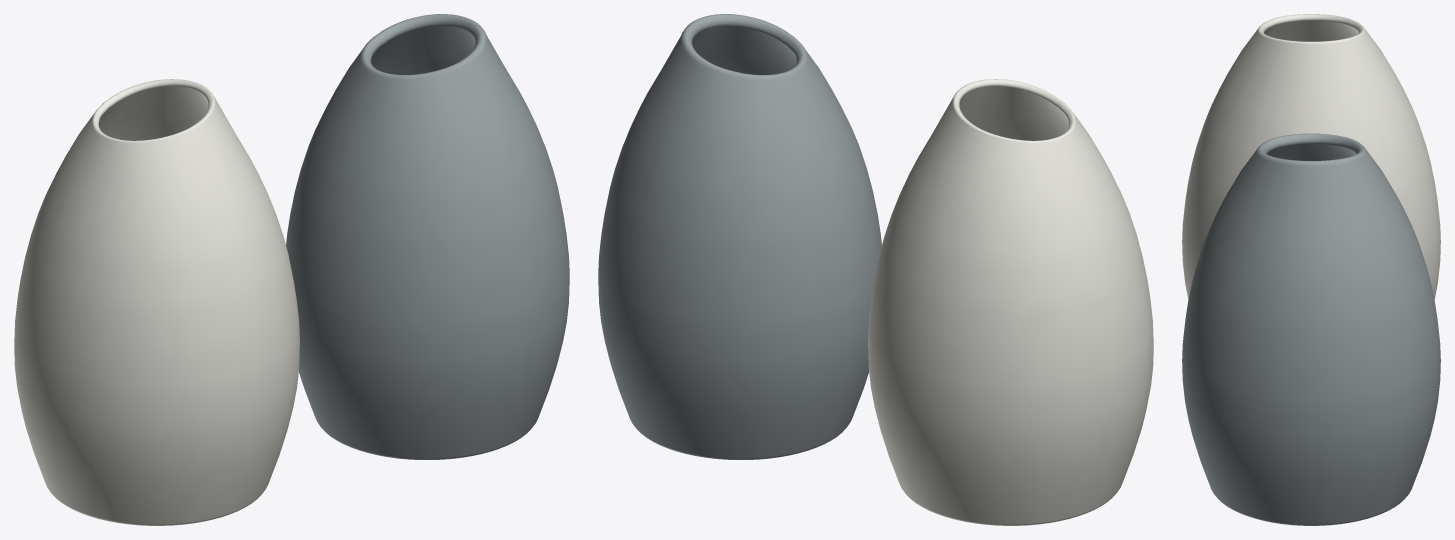
File: B07QHL8W81.glb
The picture shows the model from 3 angles, left to right: view 1: azimuth 30°, elevation 25°; view 2: azimuth 150°, elevation 25°; view 3: azimuth 270°, elevation 25°; orthographic projection. The views are drawn at different scales.
Visible parts, largest first — view 1: RootNode; view 2: RootNode; view 3: RootNode.
Part boxes in pixels (bbox=[...]): RootNode: bbox=[14, 14, 569, 525]; RootNode: bbox=[598, 14, 1153, 525]; RootNode: bbox=[1182, 14, 1440, 525].
Size of the model in its own units: 0.1868 by 0.1313 by 0.0894.
Materials: 1 (1 with a texture image).
